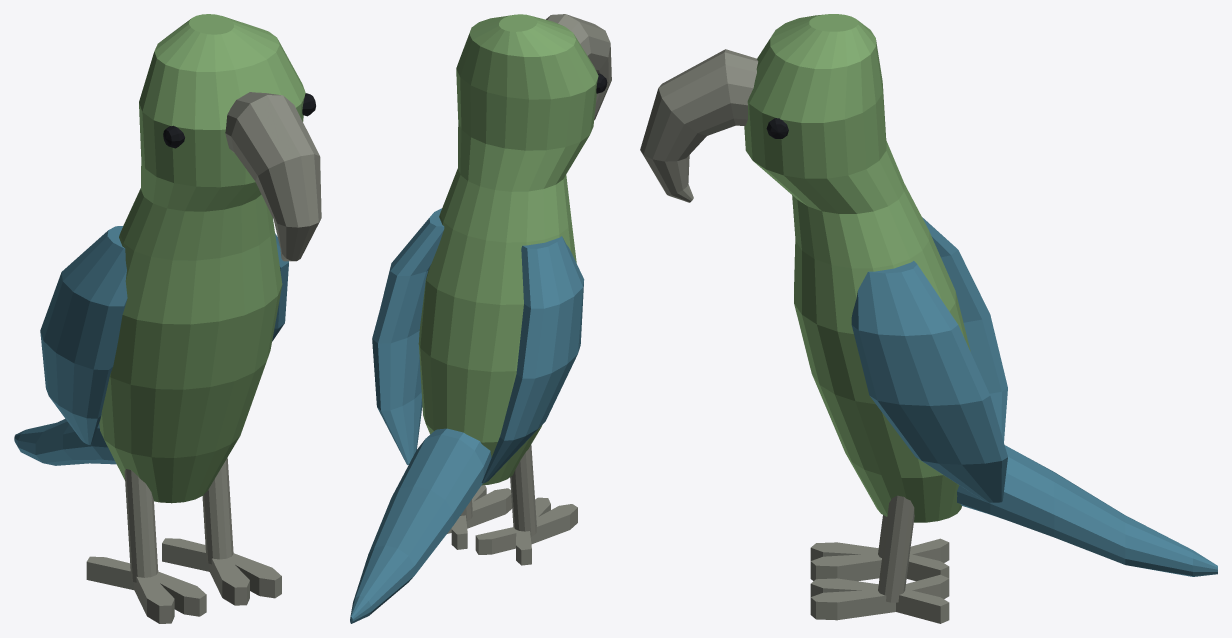
The picture shows the model from 3 angles, left to right: view 1: azimuth 30°, elevation 25°; view 2: azimuth 150°, elevation 25°; view 3: azimuth 270°, elevation 25°; orthographic projection. The views are drawn at different scales.
Parts seen in each view (by area): view 1: WholeUprightChestShortNeckAndForwardParrotHead, WholeLongFoldedParrotWing0, WholeDeepCurvedHookBill, WholeFourLobedCleftGroundFoot0, WholeFourLobedCleftGroundFoot1, WholeLongTaperedTrailingTail, WholeShortParrotLeg0, WholeShortParrotLeg1, WholeLongFoldedParrotWing1; view 2: WholeUprightChestShortNeckAndForwardParrotHead, WholeLongTaperedTrailingTail, WholeLongFoldedParrotWing0, WholeLongFoldedParrotWing1, WholeFourLobedCleftGroundFoot0, WholeDeepCurvedHookBill, WholeFourLobedCleftGroundFoot1, WholeShortParrotLeg0; view 3: WholeUprightChestShortNeckAndForwardParrotHead, WholeLongFoldedParrotWing1, WholeLongTaperedTrailingTail, WholeDeepCurvedHookBill, WholeFourLobedCleftGroundFoot1, WholeLongFoldedParrotWing0, WholeFourLobedCleftGroundFoot0, WholeShortParrotLeg1.
Boxes of the visible parts, bbox=[...] form: WholeUprightChestShortNeckAndForwardParrotHead: bbox=[99, 14, 305, 503]; WholeLongFoldedParrotWing0: bbox=[40, 226, 127, 444]; WholeDeepCurvedHookBill: bbox=[225, 92, 321, 261]; WholeFourLobedCleftGroundFoot0: bbox=[86, 556, 206, 623]; WholeFourLobedCleftGroundFoot1: bbox=[162, 538, 281, 605]; WholeLongTaperedTrailingTail: bbox=[14, 418, 116, 465]; WholeShortParrotLeg0: bbox=[124, 469, 158, 582]; WholeShortParrotLeg1: bbox=[202, 457, 233, 564]; WholeLongFoldedParrotWing1: bbox=[272, 233, 288, 341]; WholeUprightChestShortNeckAndForwardParrotHead: bbox=[418, 14, 598, 485]; WholeLongTaperedTrailingTail: bbox=[350, 428, 491, 623]; WholeLongFoldedParrotWing0: bbox=[481, 236, 584, 483]; WholeLongFoldedParrotWing1: bbox=[372, 208, 444, 464]; WholeFourLobedCleftGroundFoot0: bbox=[475, 497, 577, 565]; WholeDeepCurvedHookBill: bbox=[546, 14, 611, 120]; WholeFourLobedCleftGroundFoot1: bbox=[447, 485, 512, 549]; WholeShortParrotLeg0: bbox=[510, 445, 536, 536]; WholeUprightChestShortNeckAndForwardParrotHead: bbox=[744, 14, 970, 522]; WholeLongFoldedParrotWing1: bbox=[851, 261, 1007, 502]; WholeLongTaperedTrailingTail: bbox=[957, 445, 1217, 576]; WholeDeepCurvedHookBill: bbox=[640, 49, 758, 202]; WholeFourLobedCleftGroundFoot1: bbox=[810, 574, 949, 623]; WholeLongFoldedParrotWing0: bbox=[922, 217, 1007, 441]; WholeFourLobedCleftGroundFoot0: bbox=[810, 538, 949, 581]; WholeShortParrotLeg1: bbox=[878, 495, 914, 602].
Bounding box in the file's own units: 0.68 × 1.76 × 1.62.
